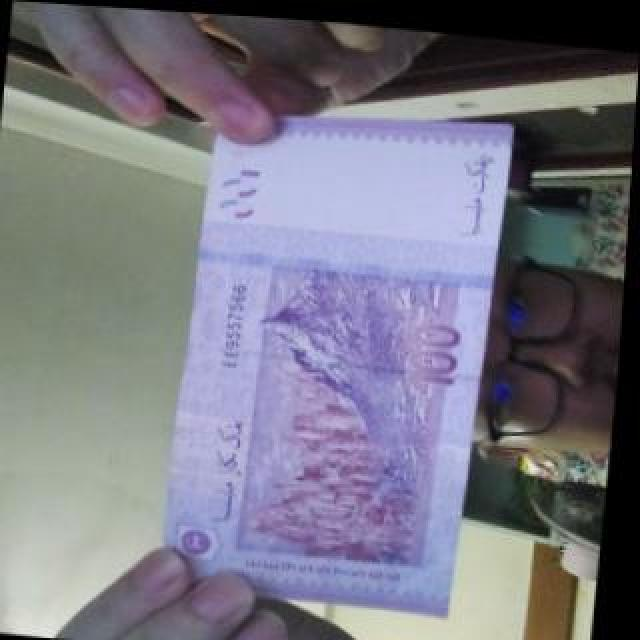100 Ringgit: (162, 72, 520, 615)
